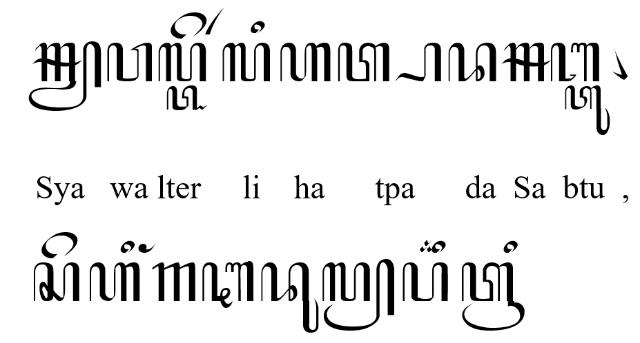-l: (321, 258, 395, 332)
I: (202, 261, 254, 309)
Sy: (28, 41, 102, 111)
_p: (394, 42, 442, 82)
_r1: (204, 7, 223, 35)
_t: (166, 85, 208, 111)
alt: (419, 239, 435, 253)
b: (550, 41, 600, 83)
d: (447, 42, 497, 82)
du: (260, 262, 320, 334)
e: (40, 230, 78, 260), (170, 12, 208, 40)
g: (151, 262, 195, 304)
h: (88, 262, 140, 304), (158, 42, 208, 82), (280, 42, 330, 82)
i: (250, 20, 264, 34), (121, 240, 135, 254), (432, 240, 446, 254), (503, 242, 517, 254)
kom: (612, 47, 628, 81)
l: (221, 42, 271, 82)
ng: (138, 242, 156, 254)
p: (401, 262, 449, 304)
s: (501, 42, 551, 82), (32, 262, 80, 302)
t: (338, 42, 390, 82)
tr: (460, 262, 526, 332)
tu: (564, 84, 610, 136)
w: (106, 42, 154, 82)
